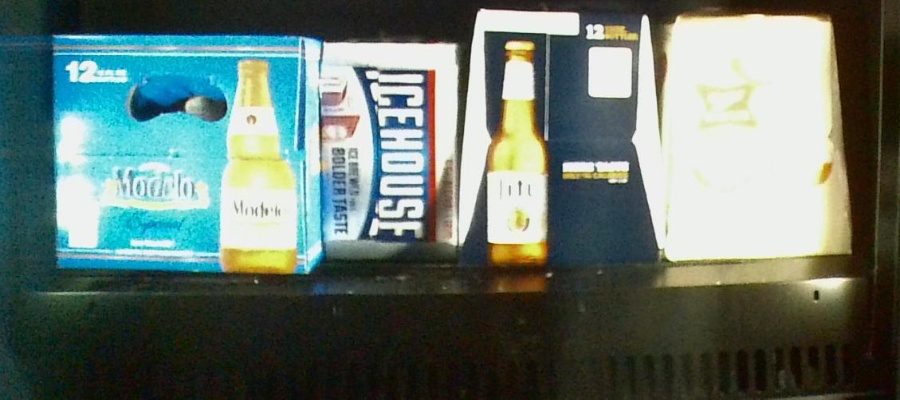bottle: (52, 37, 321, 276), (468, 7, 663, 263), (667, 11, 844, 260), (321, 42, 460, 260)
